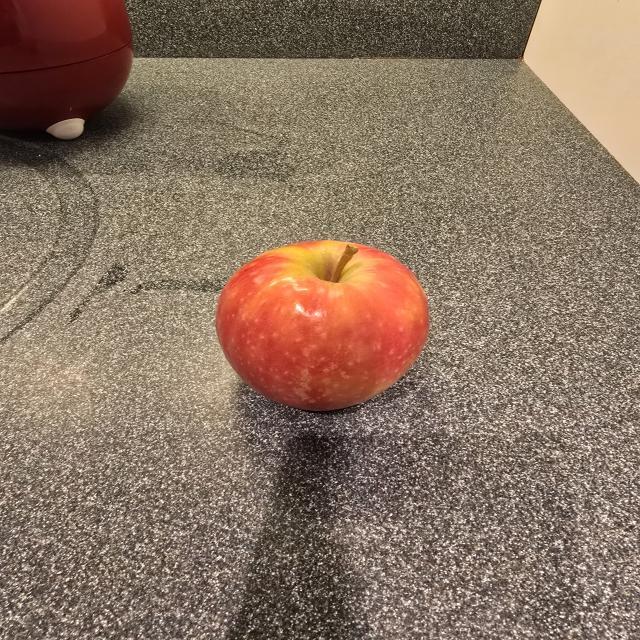Apple: (216, 241, 429, 411)
